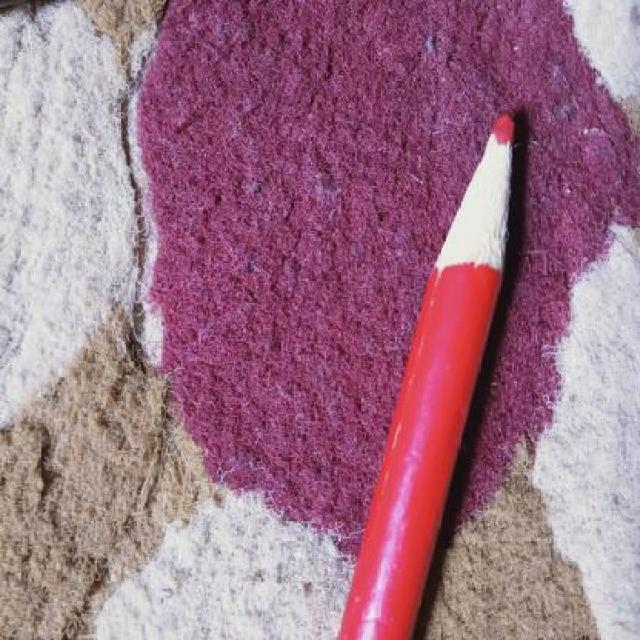Pencil: (424, 104, 520, 304), (608, 125, 610, 127)
